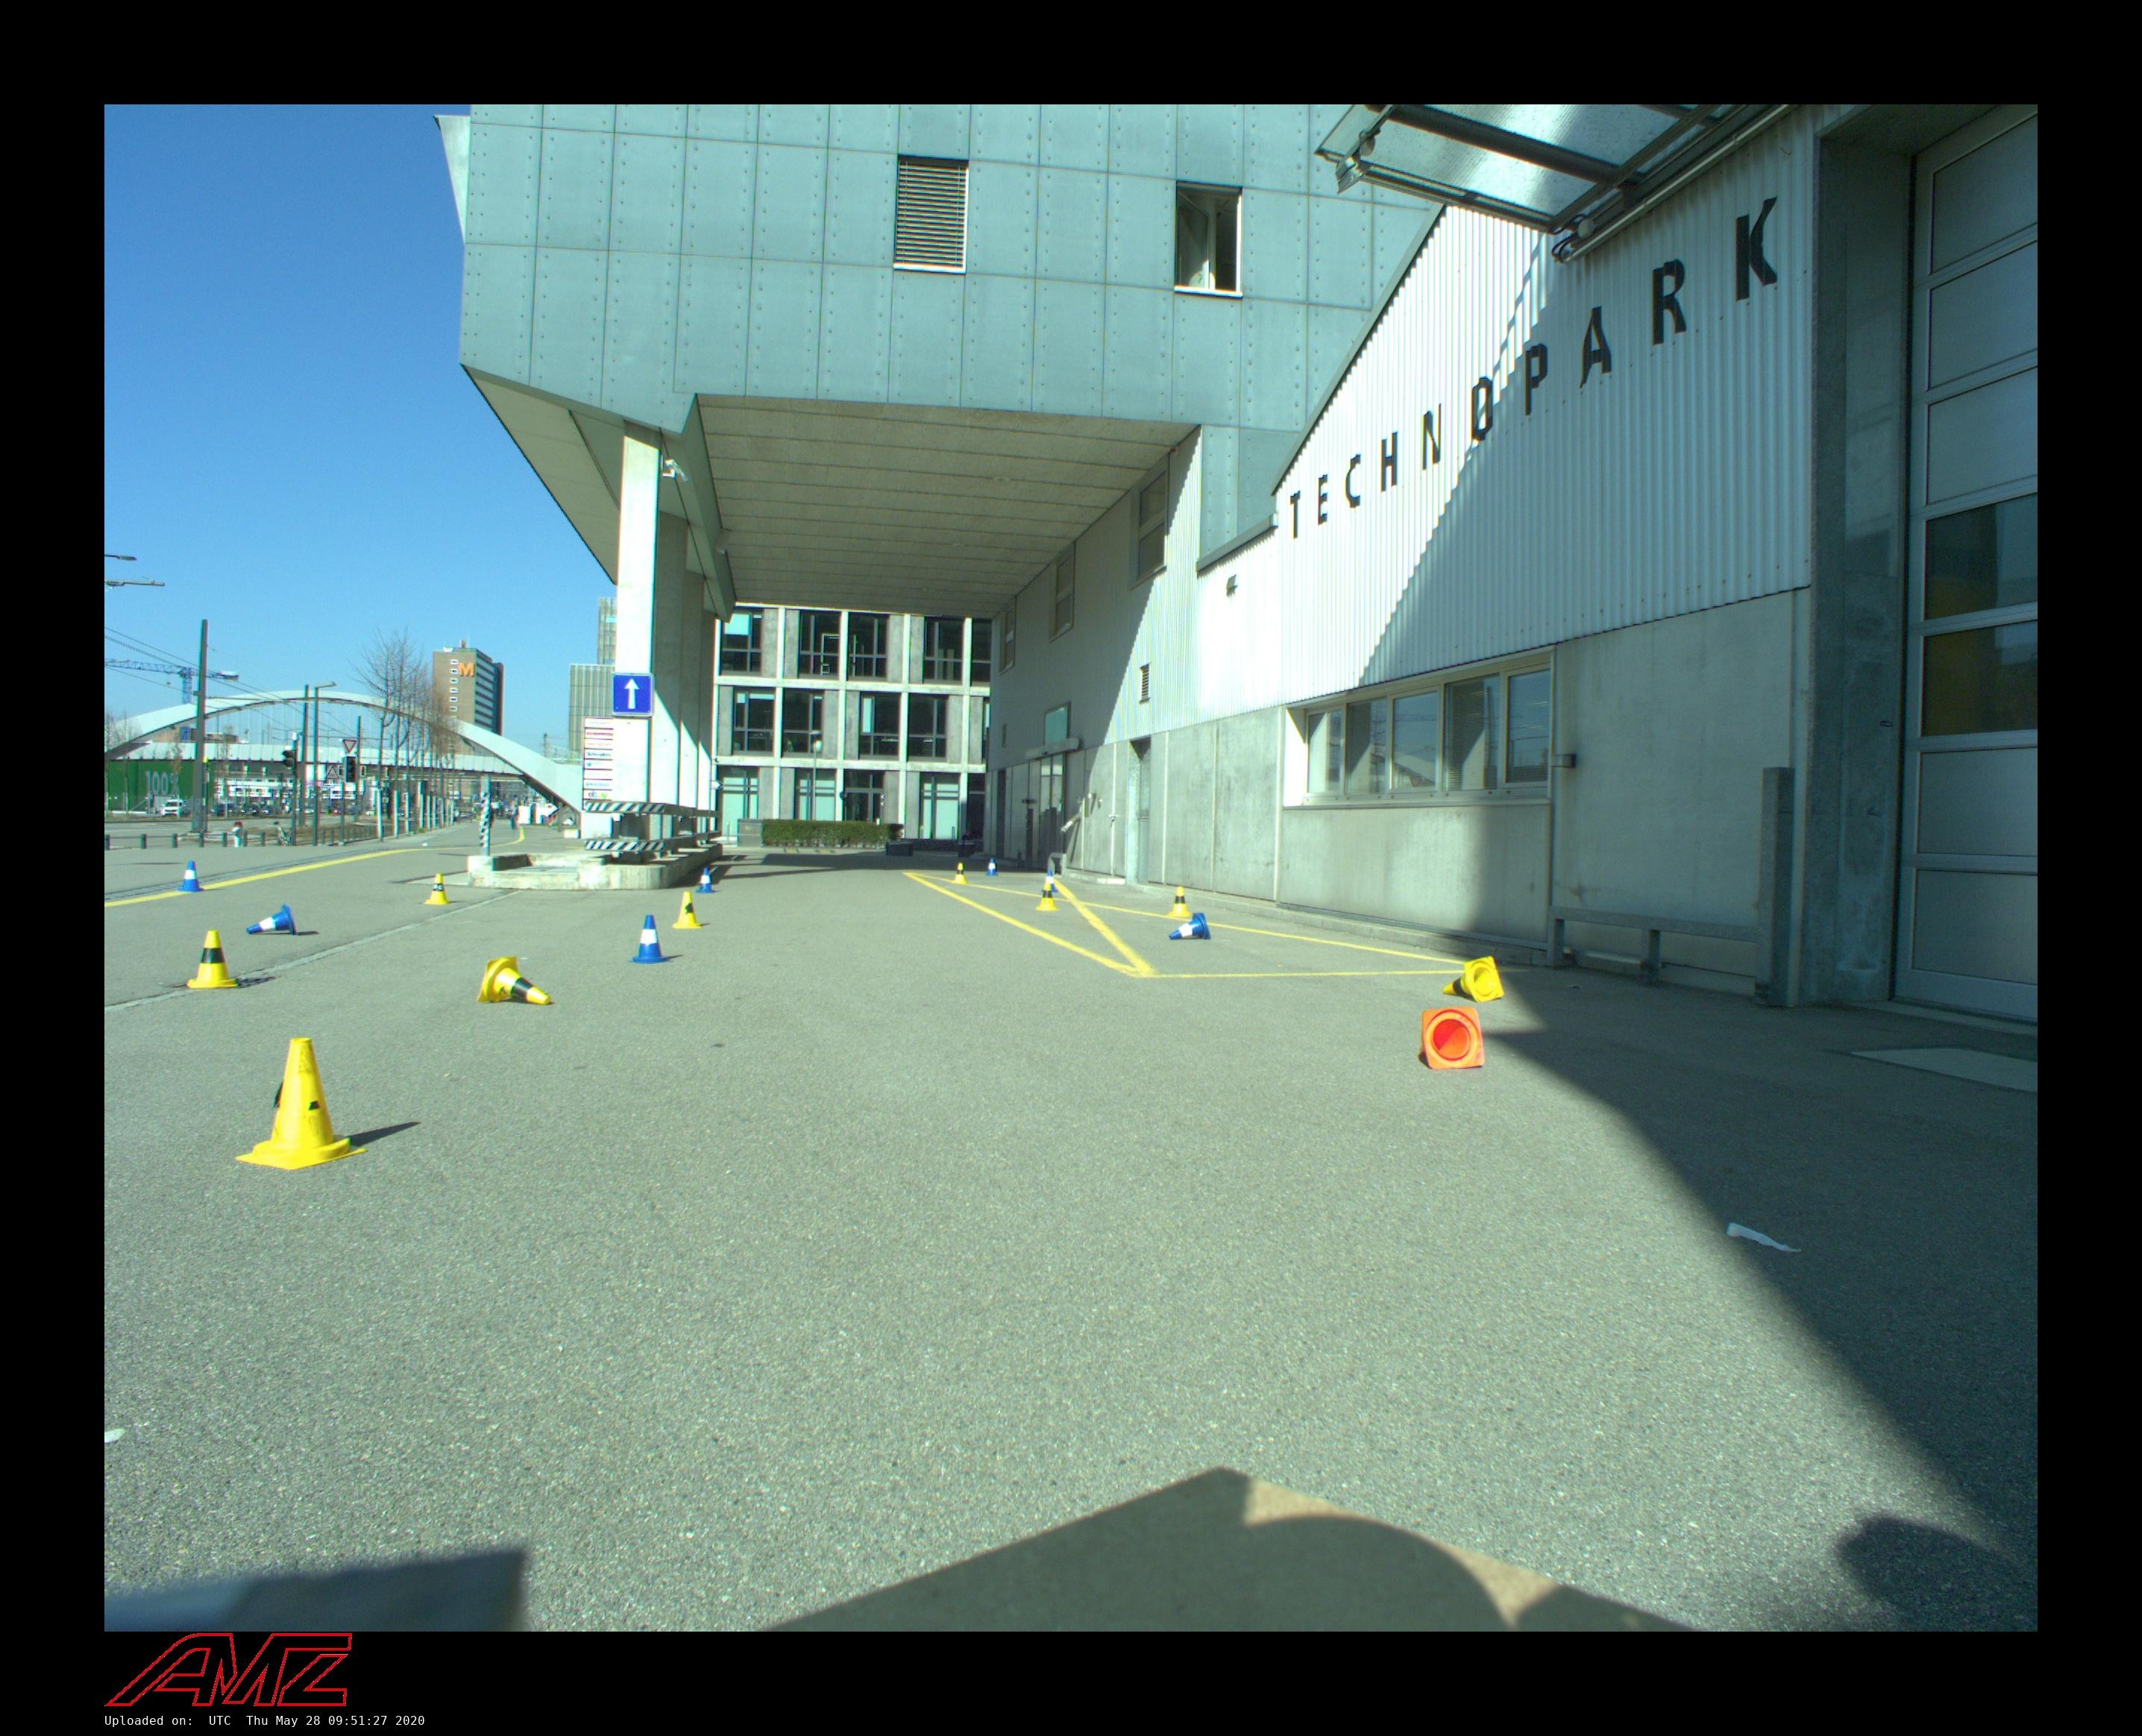blue_cone: (627, 916, 675, 964), (246, 903, 298, 935), (1169, 912, 1212, 941), (177, 861, 206, 893), (695, 868, 718, 893), (1042, 870, 1058, 893), (985, 857, 999, 877)
orange_cone: (1421, 1006, 1485, 1070)
yellow_cone: (236, 1038, 367, 1171), (477, 957, 551, 1006), (186, 930, 237, 988), (1444, 957, 1504, 1003), (673, 891, 703, 928), (423, 873, 452, 905), (1168, 887, 1191, 916), (1035, 882, 1058, 911), (951, 863, 967, 884)
